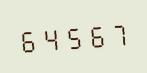five: (62, 20, 83, 52)
four: (40, 22, 61, 53)
seven: (106, 17, 127, 49)
six: (18, 23, 39, 55), (84, 19, 105, 50)
